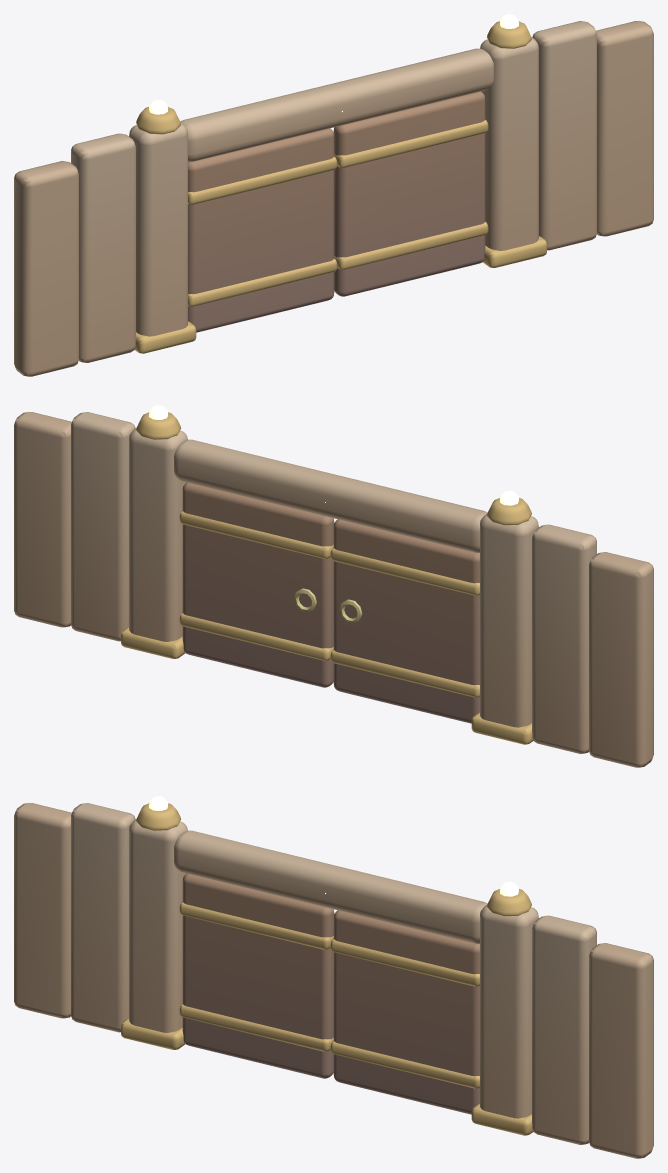
File: gate1.glb
The picture shows the model from 3 angles, top to bottom: view 1: azimuth 30°, elevation 25°; view 2: azimuth 150°, elevation 25°; view 3: azimuth 330°, elevation 25°; orthographic projection.
Parts seen in each view (by area): view 1: Body; view 2: Body; view 3: Body.
Boxes of the visible parts, x1,y1,x2,y2 form: Body: (14, 21, 653, 376); Body: (14, 412, 653, 767); Body: (14, 803, 653, 1158).
Size of the model in its own units: 38.9 by 14.2 by 2.31.
